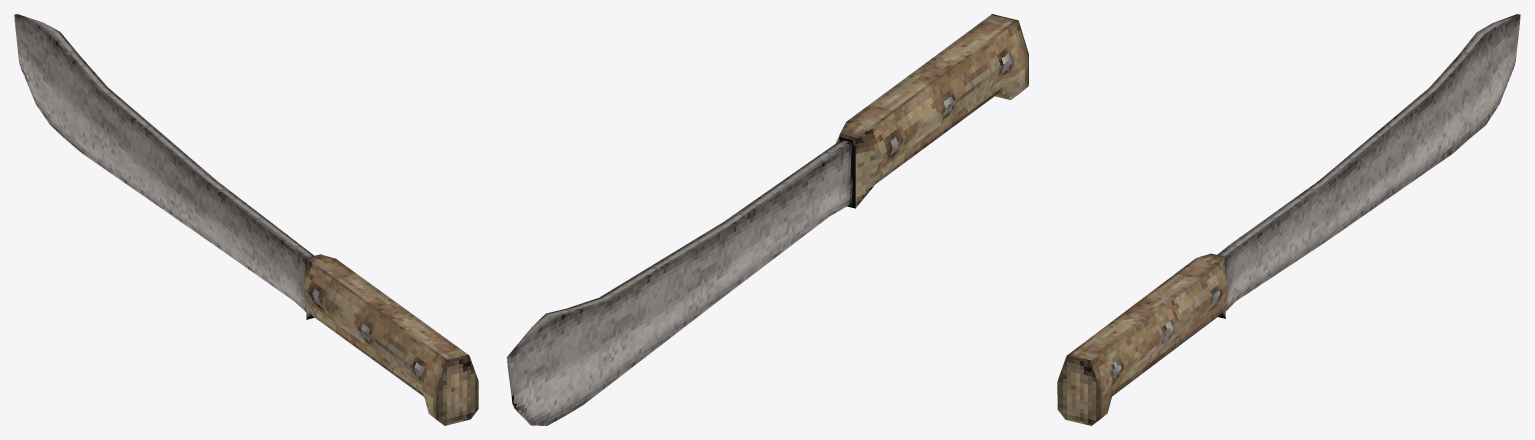
The model's file is Machete.glb.
The picture shows the model from 3 angles, left to right: view 1: azimuth 30°, elevation 25°; view 2: azimuth 150°, elevation 25°; view 3: azimuth 330°, elevation 25°; orthographic projection. The views are drawn at different scales.
Parts seen in each view (by area): view 1: Cube; view 2: Cube; view 3: Cube.
Part boxes in pixels (left/top/right/bottom): Cube: left=14, top=14, right=478, bottom=425; Cube: left=507, top=14, right=1028, bottom=425; Cube: left=1057, top=14, right=1520, bottom=425.
Size of the model in its own units: 1.42 by 3.09 by 24.86.
1 material, 1 textured.
